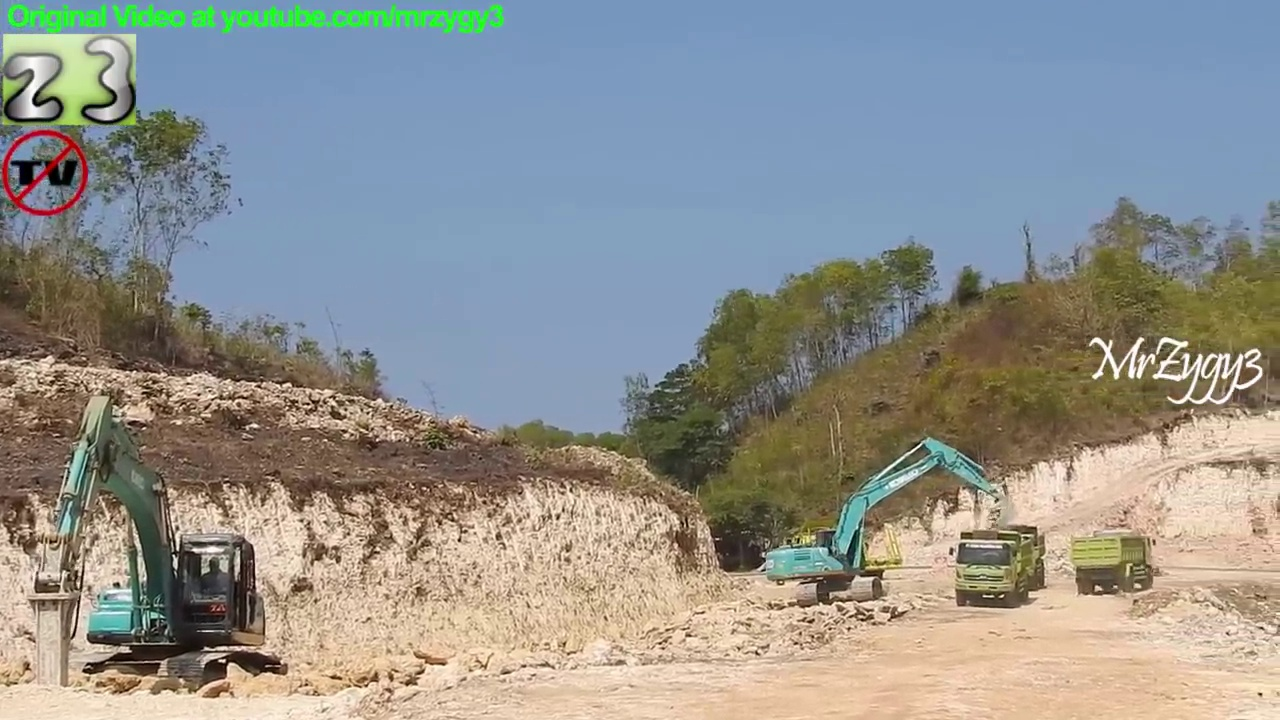excavator: (760, 433, 1017, 606)
excavator breaker: (27, 389, 291, 703)
truck: (947, 527, 1037, 609), (960, 520, 1051, 598), (1068, 528, 1160, 598)
